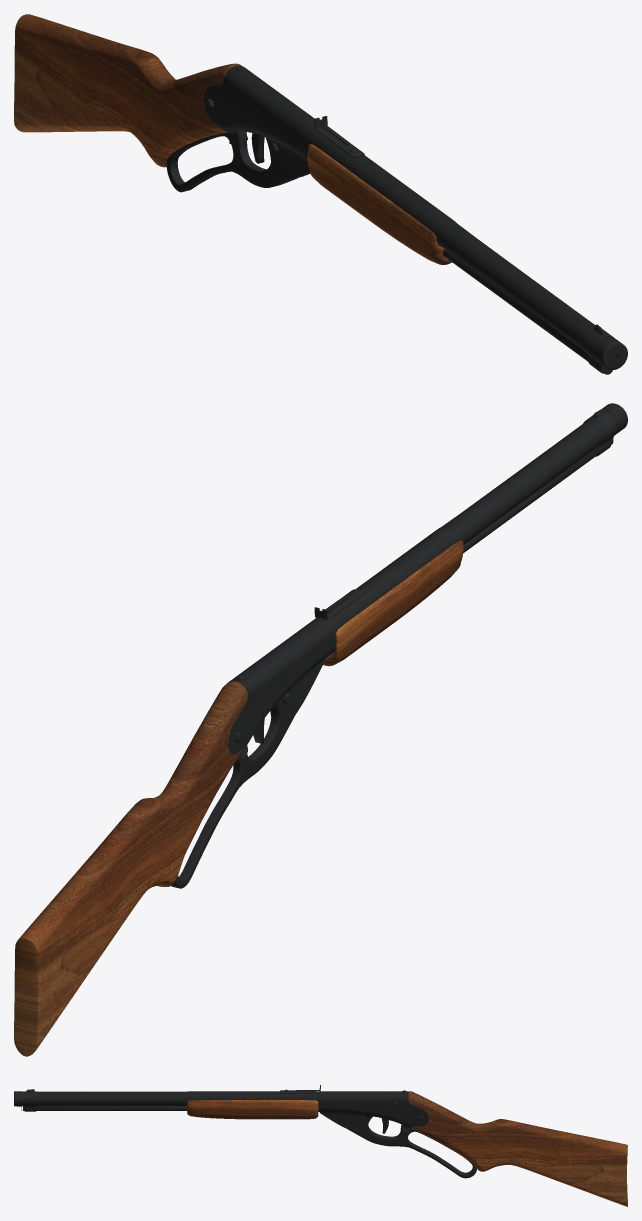
The model's file is Gun.obj.
3 views of the same model, one above another, from view 1: azimuth 30°, elevation 25°; view 2: azimuth 150°, elevation 25°; view 3: azimuth 270°, elevation 25° (orthographic). The views are drawn at different scales.
Bounding box in the file's own units: 0.1892 × 1.22 × 5.63.
Materials: 1 (1 with a texture image).
